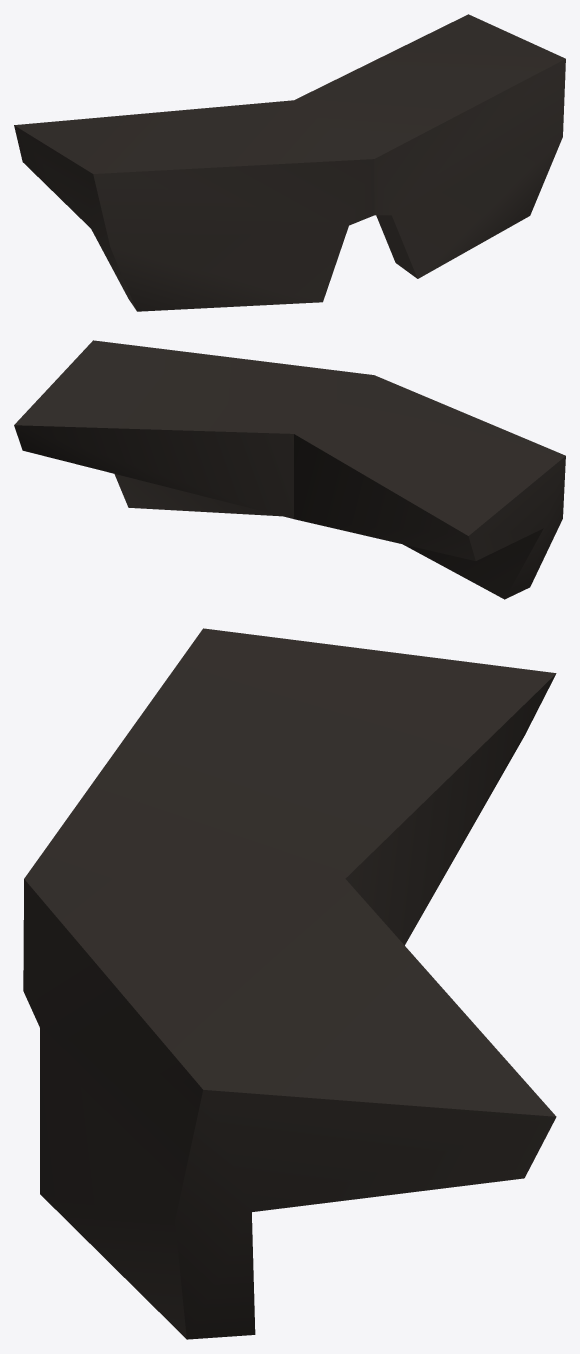
3 renders of one model, top to bottom at view 1: azimuth 30°, elevation 25°; view 2: azimuth 150°, elevation 25°; view 3: azimuth 270°, elevation 25°, orthographic. The views are drawn at different scales.
Visible parts, largest first — view 1: f_head_add_glasses_C; view 2: f_head_add_glasses_C; view 3: f_head_add_glasses_C.
Part boxes in pixels (x1,y1,x2,y2): f_head_add_glasses_C: [14, 14, 565, 311]; f_head_add_glasses_C: [14, 340, 565, 599]; f_head_add_glasses_C: [23, 628, 556, 1339].
Size of the model in its own units: 0.6065 by 0.1791 by 0.2962.
